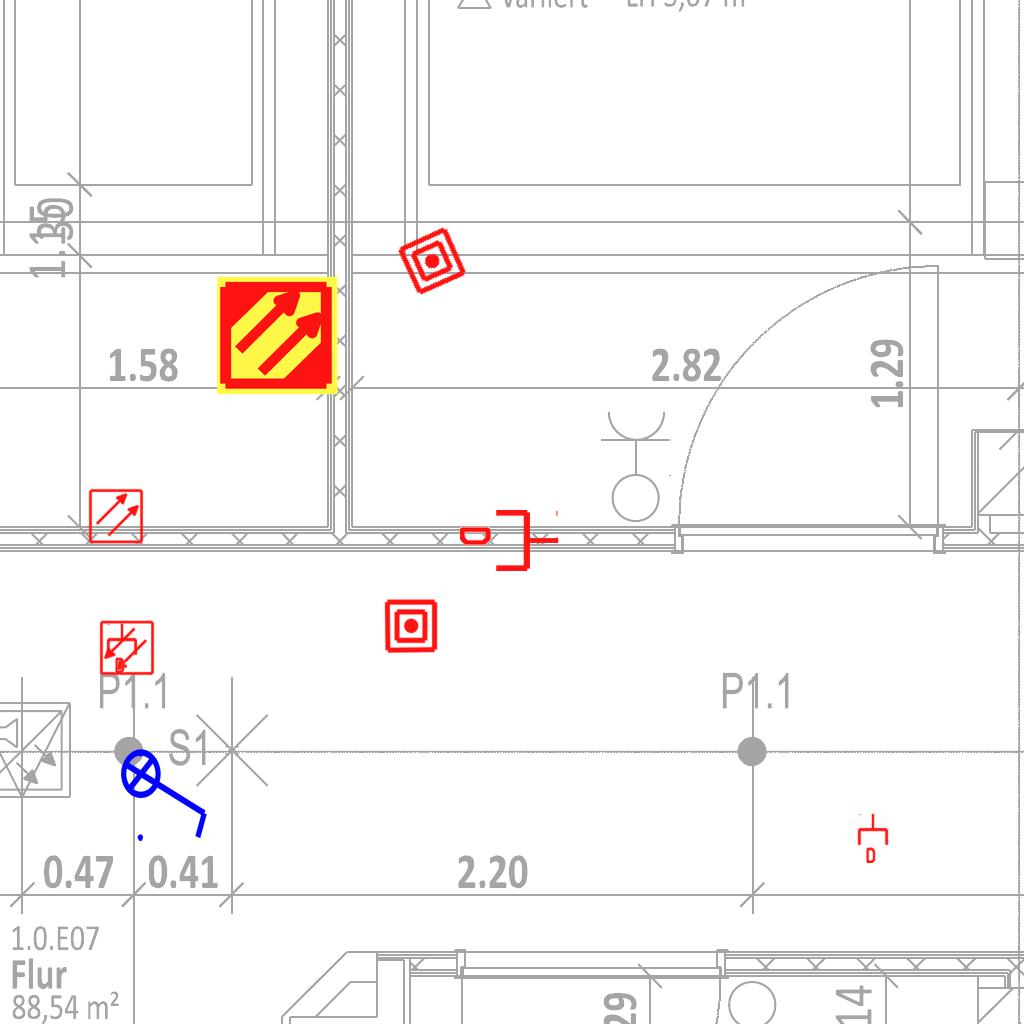ASR_Ansaugrauchmelder: (215, 273, 340, 398)
Ausschalter_beleuchtet: (119, 735, 215, 847)
Datenanschluss_einfach: (460, 506, 560, 575), (856, 813, 890, 863), (105, 623, 139, 673)
NAM-Nichtautomatischer_Melder: (395, 224, 469, 298), (383, 598, 439, 654)
RMO_Rauchmelder_optischer: (88, 488, 144, 544), (99, 620, 155, 676)
